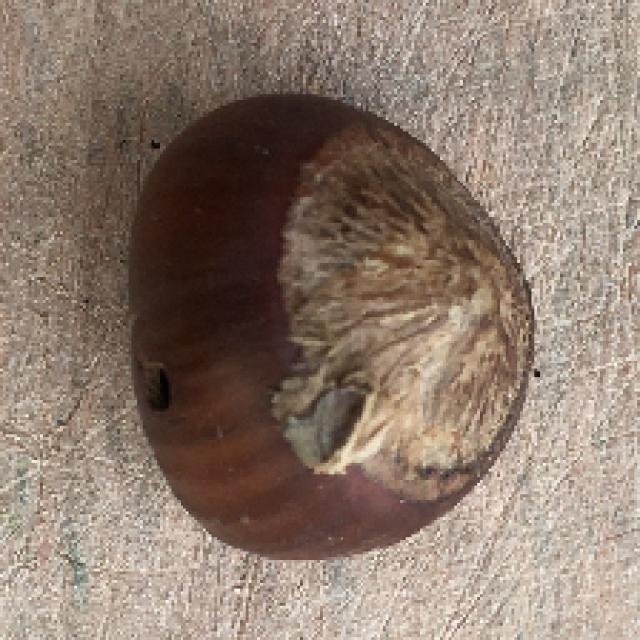DamagedHazelnut: (130, 103, 534, 560)
